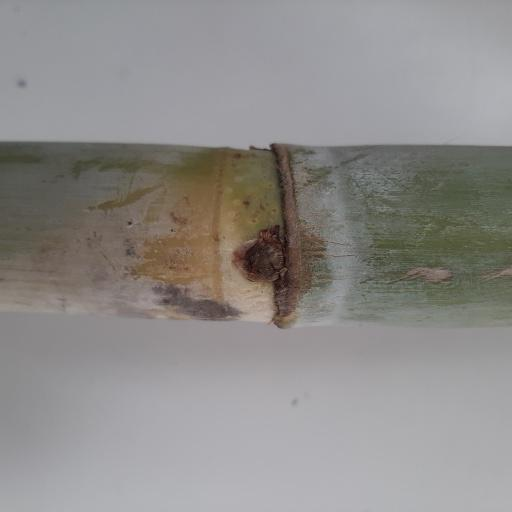Bud: (242, 235, 286, 279)
